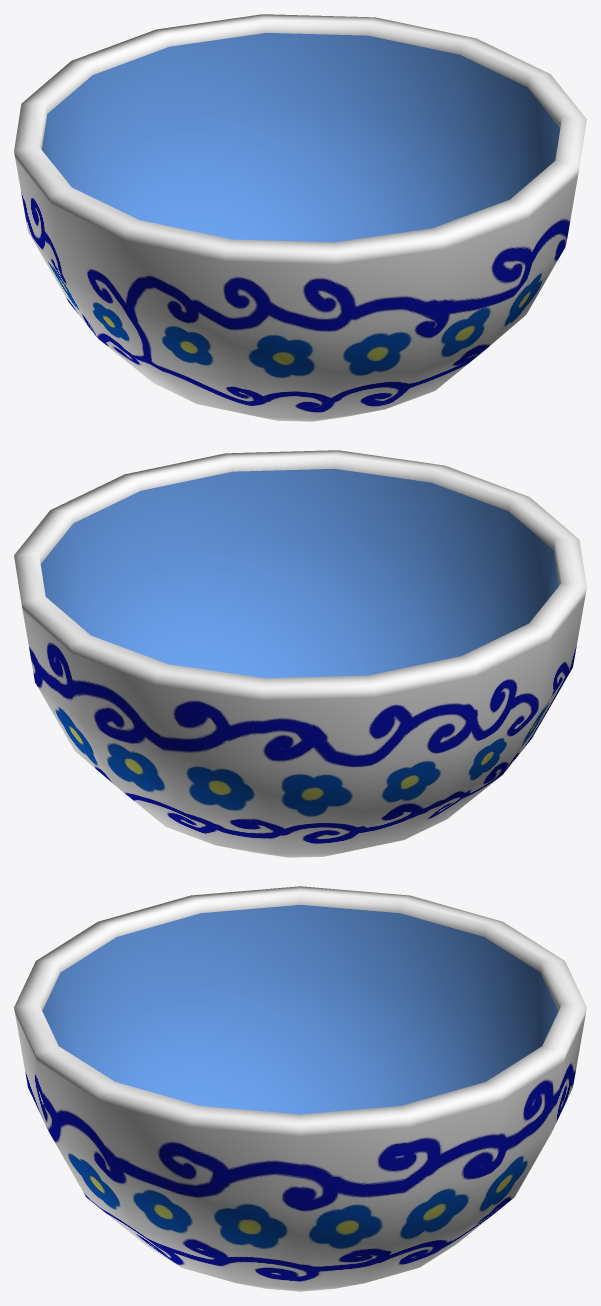
The model's file is mala zdjelica fbx file negativni.fbx.
3 renders of one model, top to bottom at view 1: azimuth 30°, elevation 25°; view 2: azimuth 150°, elevation 25°; view 3: azimuth 270°, elevation 25°, orthographic.
Visible parts, largest first — view 1: mala zdjelica; view 2: mala zdjelica; view 3: mala zdjelica.
Boxes of the visible parts, x1,y1,x2,y2 form: mala zdjelica: [14, 14, 586, 421]; mala zdjelica: [14, 450, 586, 857]; mala zdjelica: [14, 886, 586, 1291].
Size of the model in its own units: 66.86 by 32.25 by 66.86.
Materials: 1 (1 with a texture image).
